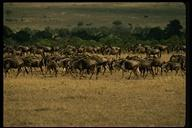antelope: (64, 56, 99, 81), (116, 55, 143, 83), (3, 54, 28, 78), (44, 54, 59, 80), (160, 60, 182, 77)
grass: (7, 83, 181, 126)
